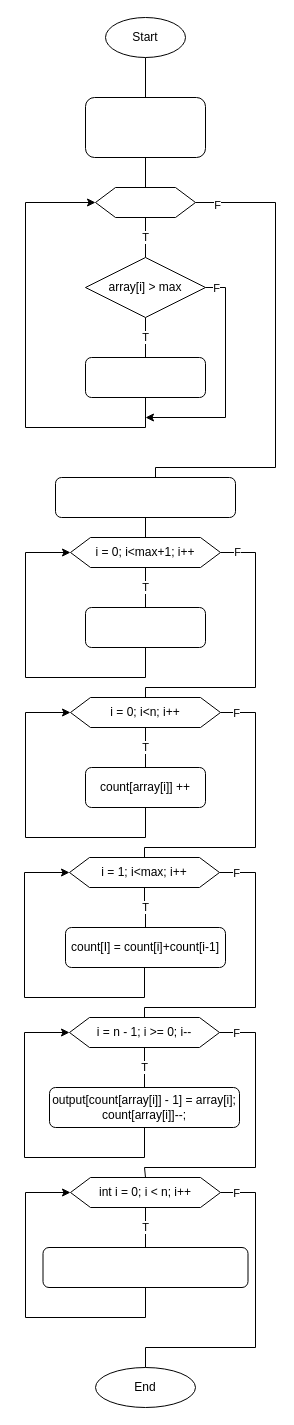
The diagram is 294 pixels wide and 1425 high, and some of its shapes have lost their labels. The shapes that lost their labels are listed below. From the top down, each one's centre as x and y in pixels, then its label:
(x=145, y=127): int[] array int n array.Length int max = 0
(x=145, y=202): i =0; i<n; i++
(x=145, y=377): max = array[i]
(x=145, y=497): int[] output = new int[n] int[] count = new int[max+1]
(x=145, y=627): count[I] = 0
(x=145, y=1267): array[i] = output[i];
